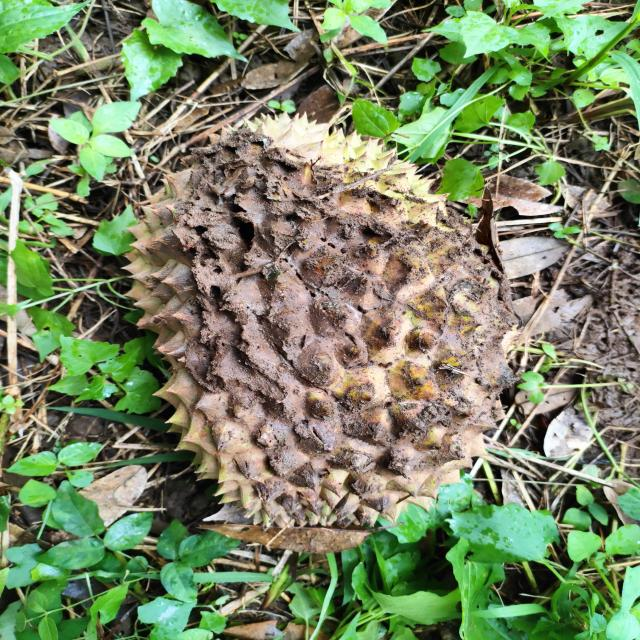defective: (115, 108, 526, 538)
